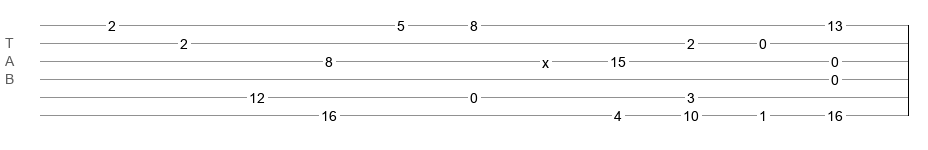0: (470, 90, 478, 100), (759, 36, 767, 46), (831, 72, 839, 82), (831, 54, 839, 64)
1: (759, 108, 767, 118)
10: (683, 108, 699, 118)
12: (249, 90, 265, 100)
13: (827, 18, 843, 28)
15: (610, 54, 626, 64)
16: (321, 108, 337, 118), (827, 108, 843, 118)
2: (108, 18, 116, 28), (180, 36, 188, 46), (687, 36, 695, 46)
3: (687, 90, 695, 100)
4: (614, 108, 622, 118)
5: (397, 18, 405, 28)
8: (325, 54, 333, 64), (470, 18, 478, 28)
x: (542, 55, 549, 63)
